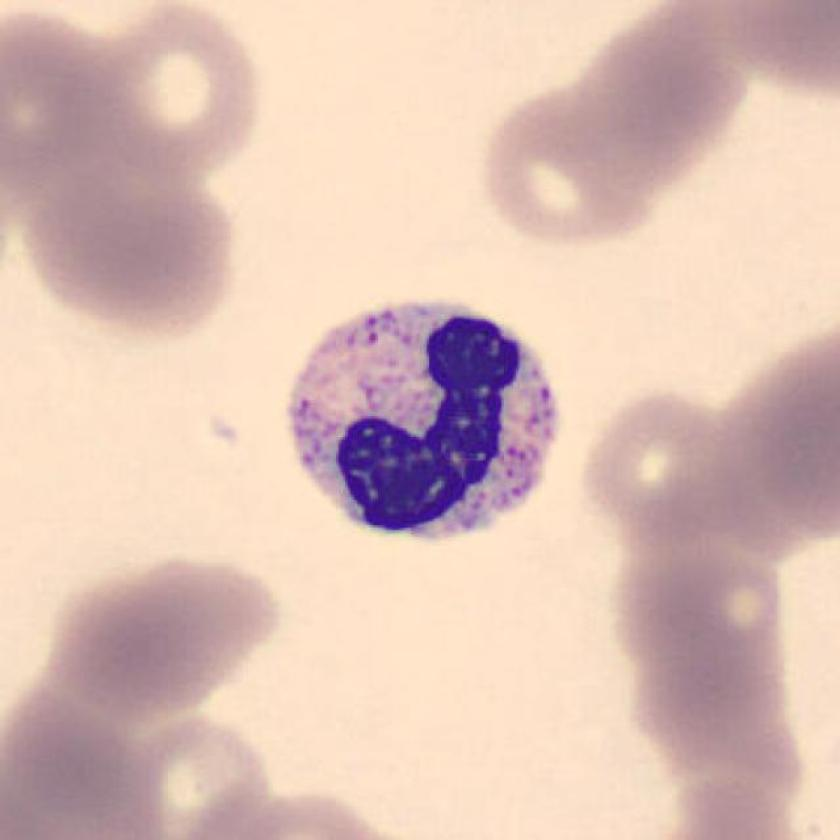neutrophil: (290, 303, 558, 547)
